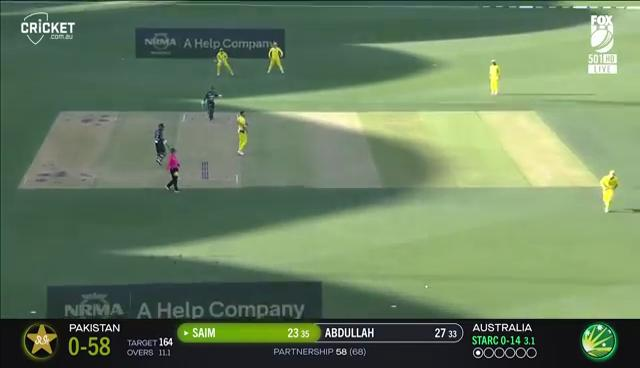ball: (422, 280, 435, 295)
